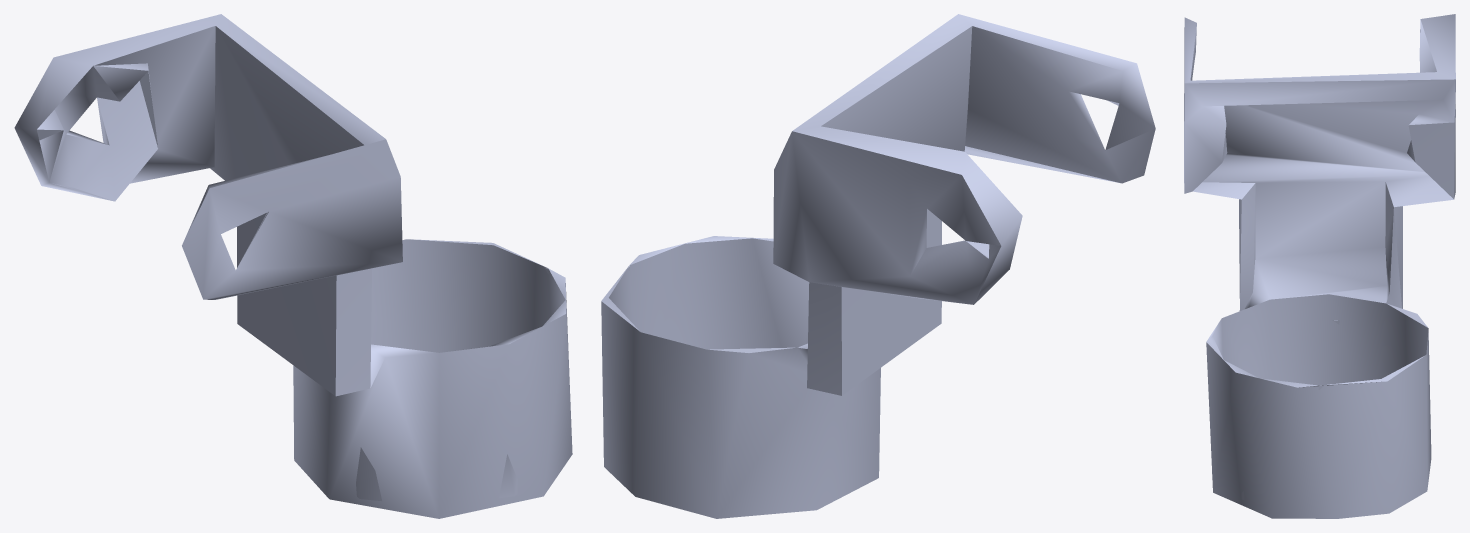
The picture shows the model from 3 angles, left to right: view 1: azimuth 30°, elevation 25°; view 2: azimuth 150°, elevation 25°; view 3: azimuth 270°, elevation 25°; orthographic projection. The views are drawn at different scales.
Visible parts, largest first — view 1: link4_stl; view 2: link4_stl; view 3: link4_stl.
Part boxes in pixels (left/top/right/bottom): link4_stl: left=14, top=14, right=572, bottom=518; link4_stl: left=601, top=14, right=1155, bottom=518; link4_stl: left=1184, top=14, right=1455, bottom=518.
Bounding box in the file's own units: 0.1186 × 0.0745 × 0.104.
